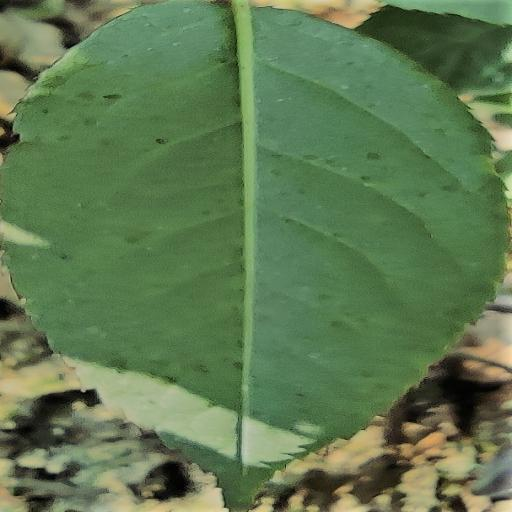healthy_leaf: (1, 0, 508, 505)
